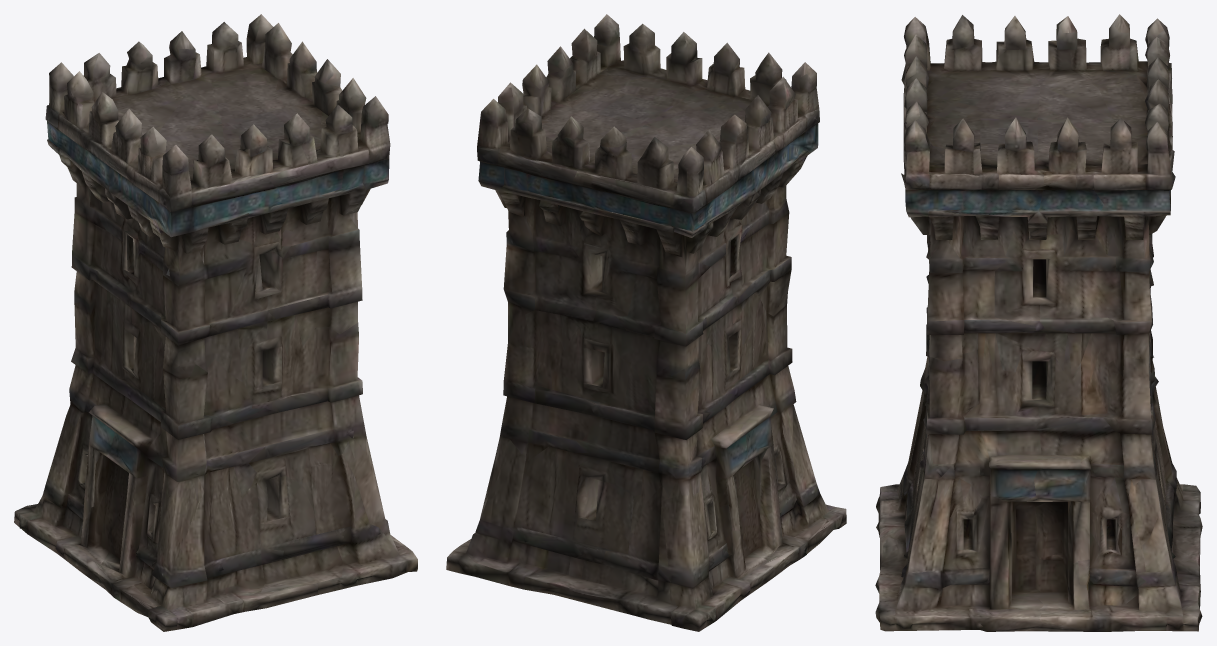
The model's file is castle_tower_medium_wood.glb.
3 renders of one model, left to right at view 1: azimuth 30°, elevation 25°; view 2: azimuth 150°, elevation 25°; view 3: azimuth 270°, elevation 25°, orthographic. The views are drawn at different scales.
Parts seen in each view (by area): view 1: tripo_node_1a173bee-4266-46d5-8697-ab4af1047a94; view 2: tripo_node_1a173bee-4266-46d5-8697-ab4af1047a94; view 3: tripo_node_1a173bee-4266-46d5-8697-ab4af1047a94.
Boxes of the visible parts, box(x1,y1,x2,y2) form: tripo_node_1a173bee-4266-46d5-8697-ab4af1047a94: box(14, 14, 417, 631); tripo_node_1a173bee-4266-46d5-8697-ab4af1047a94: box(446, 14, 846, 631); tripo_node_1a173bee-4266-46d5-8697-ab4af1047a94: box(875, 14, 1202, 631).
Bounding box in the file's own units: 0.5746 × 0.9792 × 0.581.
Materials: 1 (1 with a texture image).
